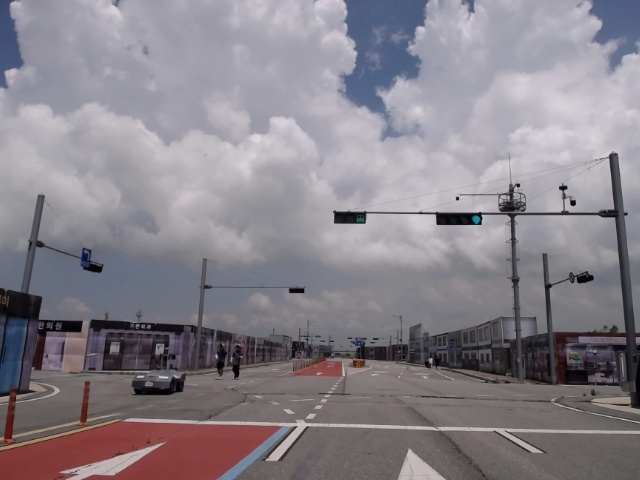straight_green_4: (437, 214, 483, 226)
